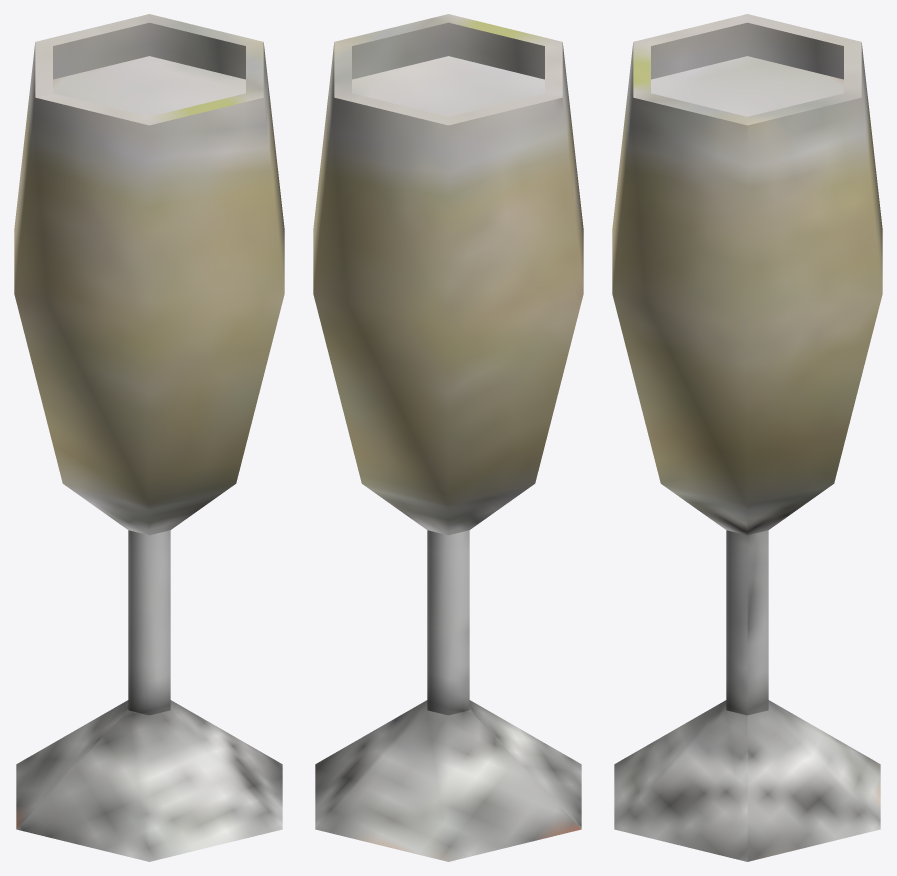
The model's file is DrinkV11.fbx.
3 renders of one model, left to right at view 1: azimuth 30°, elevation 25°; view 2: azimuth 150°, elevation 25°; view 3: azimuth 270°, elevation 25°, orthographic.
Parts seen in each view (by area): view 1: Cocktails.010; view 2: Cocktails.010; view 3: Cocktails.010.
Boxes of the visible parts, box(x1,y1,x2,y2) form: Cocktails.010: box(14, 14, 284, 861); Cocktails.010: box(313, 14, 583, 861); Cocktails.010: box(612, 14, 882, 861).
Size of the model in its own units: 0.0857 by 0.2204 by 0.0742.
